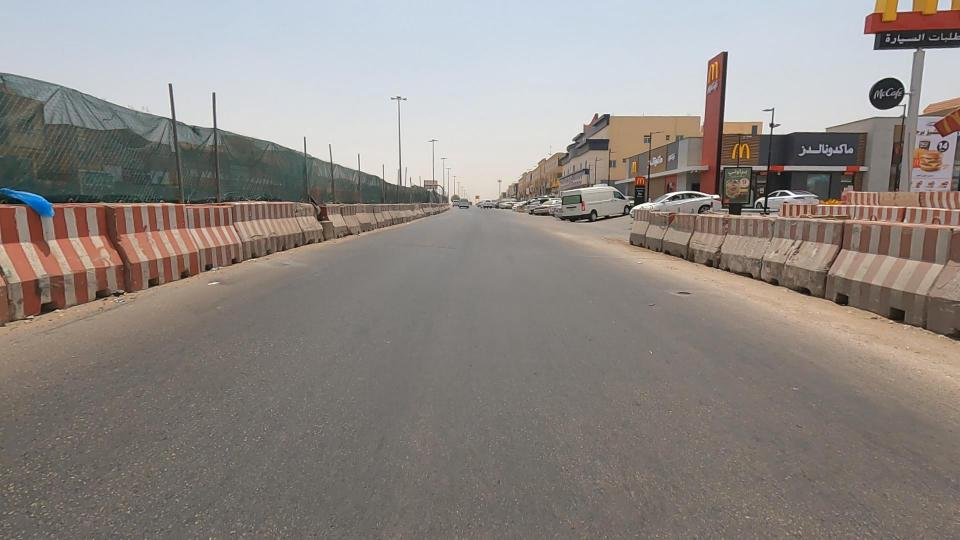CONSTRUCTION_ROAD: (554, 144, 960, 346), (0, 47, 246, 364), (112, 73, 353, 300), (259, 126, 458, 267)
GARBAGE: (0, 161, 87, 253)
